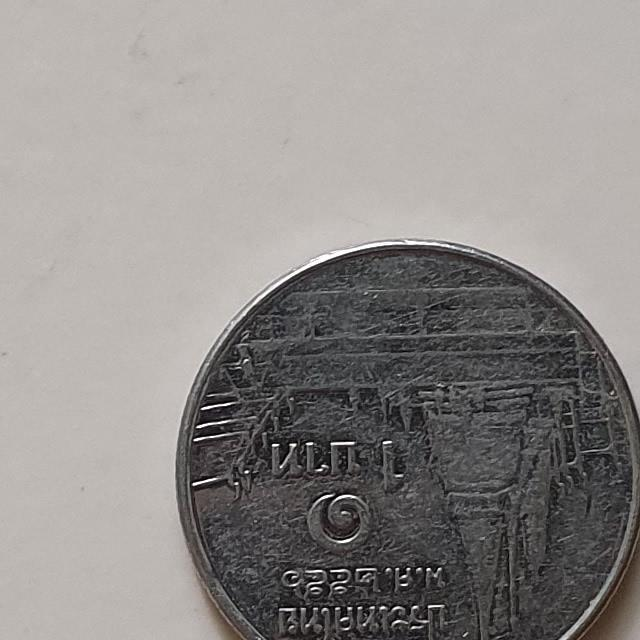1 Bath: (165, 228, 640, 640)
